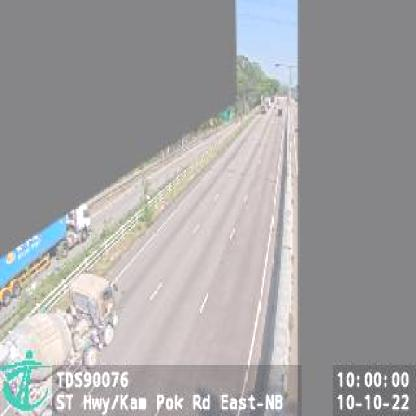Truck: (0, 273, 119, 416)
